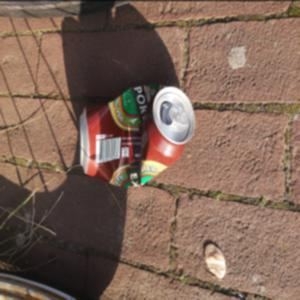Can: (80, 83, 198, 191)
